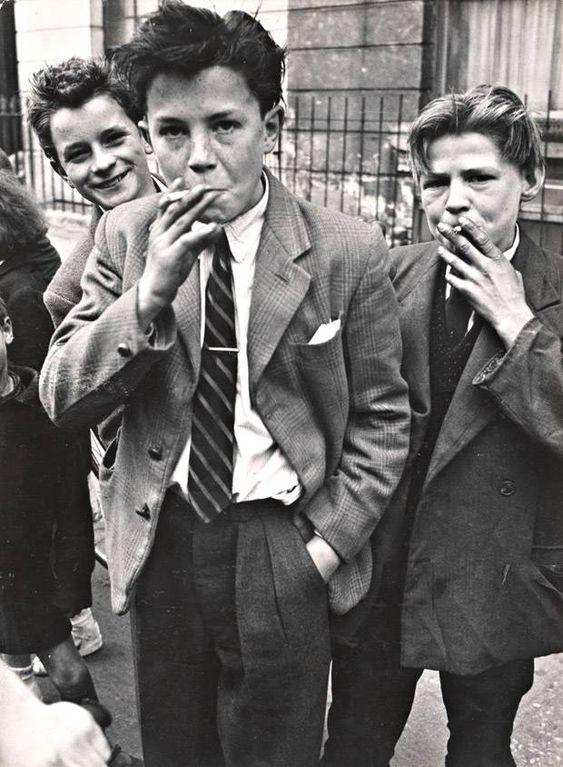cigarette: (159, 190, 190, 203), (451, 226, 462, 234)
